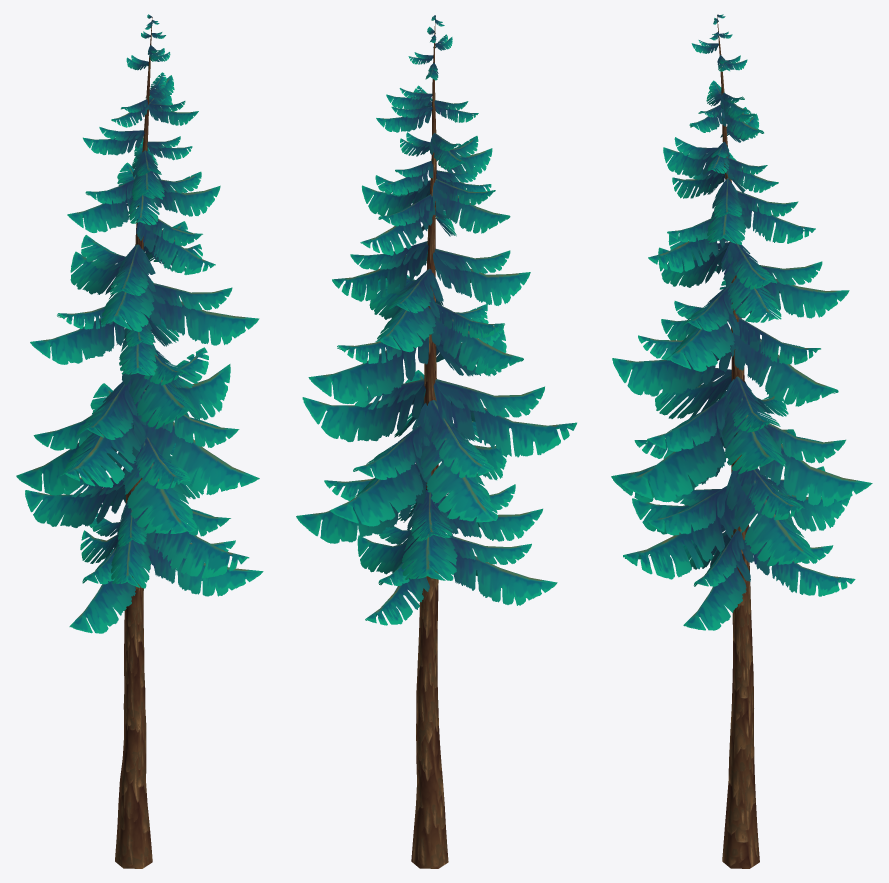
File: SM_ENV_tree_town_01.fbx
The picture shows the model from 3 angles, left to right: view 1: azimuth 30°, elevation 25°; view 2: azimuth 150°, elevation 25°; view 3: azimuth 270°, elevation 25°; orthographic projection.
Visible parts, largest first — view 1: SM_ENV_tree_town_01_LOD0; view 2: SM_ENV_tree_town_01_LOD0; view 3: SM_ENV_tree_town_01_LOD0.
Part boxes in pixels (<box>): SM_ENV_tree_town_01_LOD0: <box>16,14,263,868</box>; SM_ENV_tree_town_01_LOD0: <box>296,15,576,868</box>; SM_ENV_tree_town_01_LOD0: <box>611,14,872,868</box>.
Size of what is drawn, in the model's own units: 439 by 1534 by 434.
